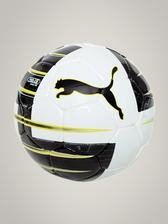other: (12, 42, 159, 184)
